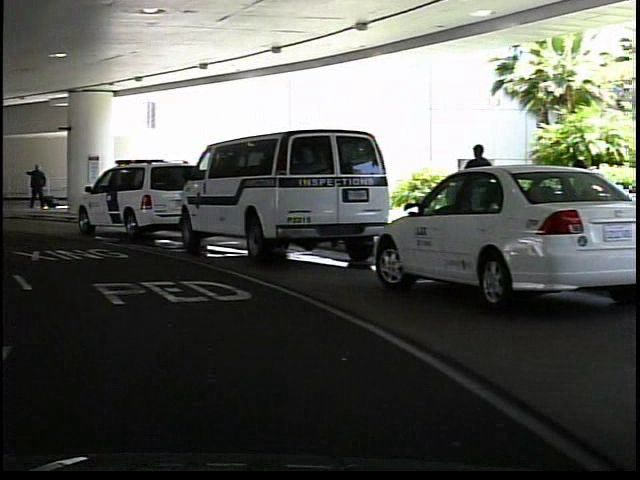person: (456, 140, 493, 254), (22, 156, 49, 216)
